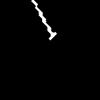half_double_crochet: (32, 0, 55, 39)
